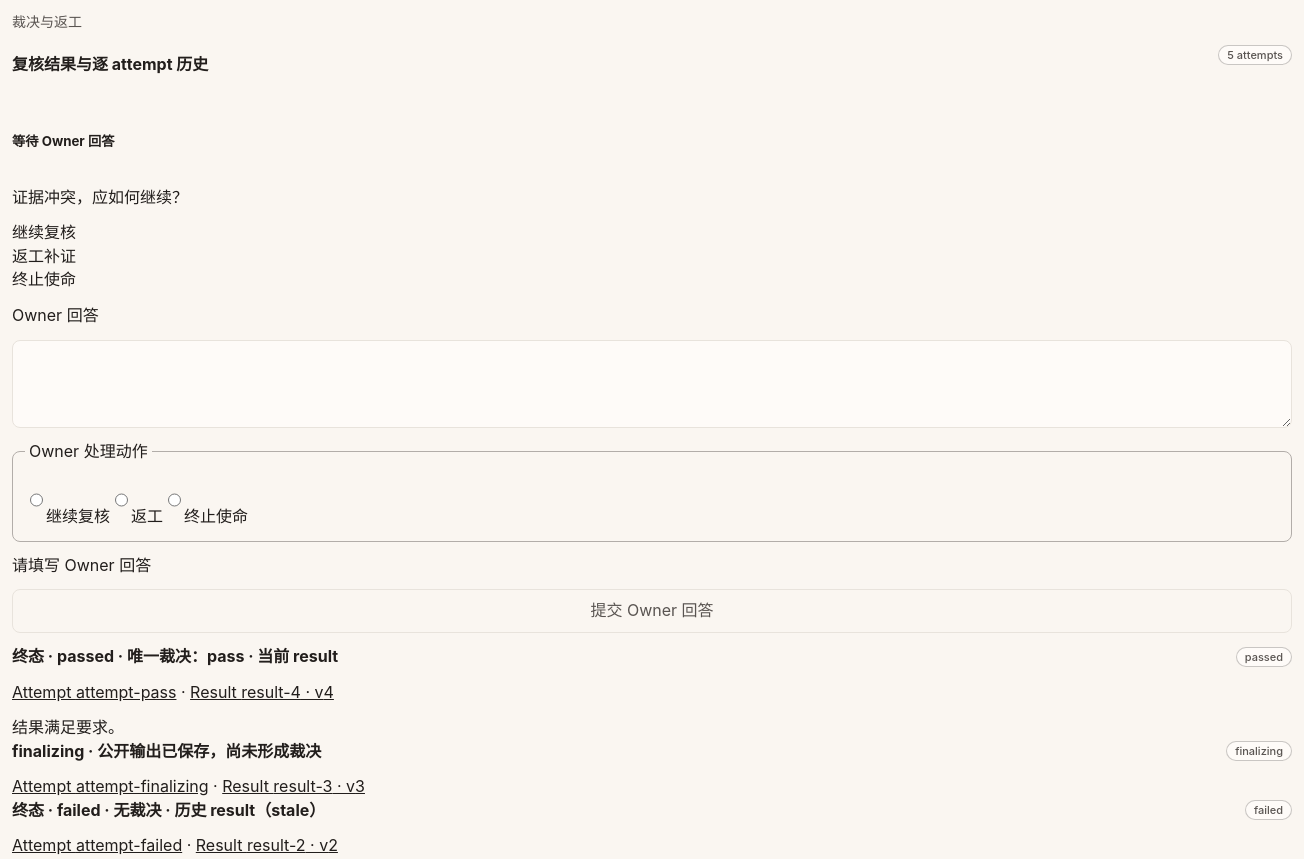
review outcomes and attempt history › submits rework with owner draft and announces its outcome
Type "保留这个回答草稿并执行所选动作。" into the text box labelled "Owner 回答".
click(652, 384); type("保留这个回答草稿并执行所选动作。")  # box left=12, top=340, right=1292, bottom=428
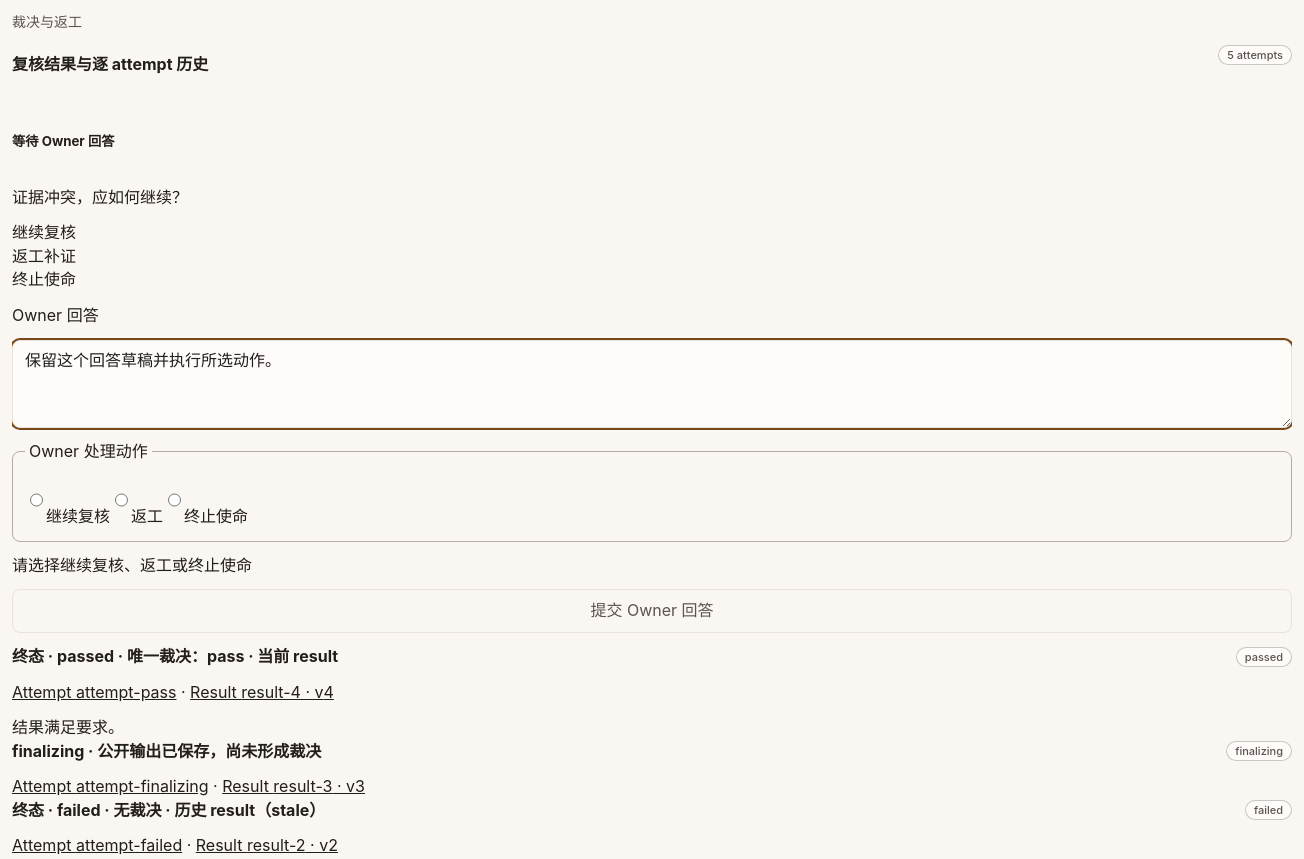
Click the radio button labelled "返工".
click(122, 500)  # box left=115, top=478, right=128, bottom=522
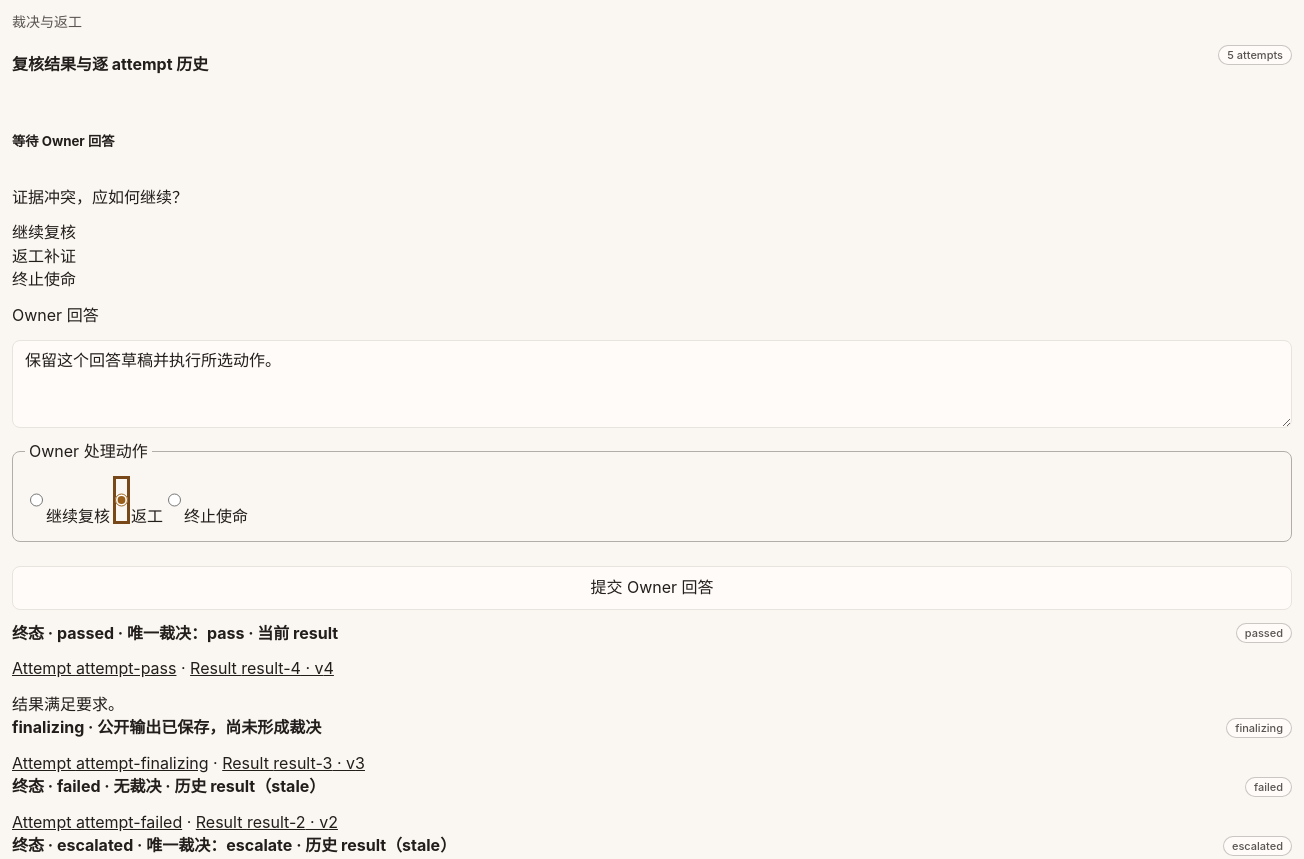
Click the button "提交 Owner 回答".
click(652, 588)  # box left=12, top=566, right=1292, bottom=610
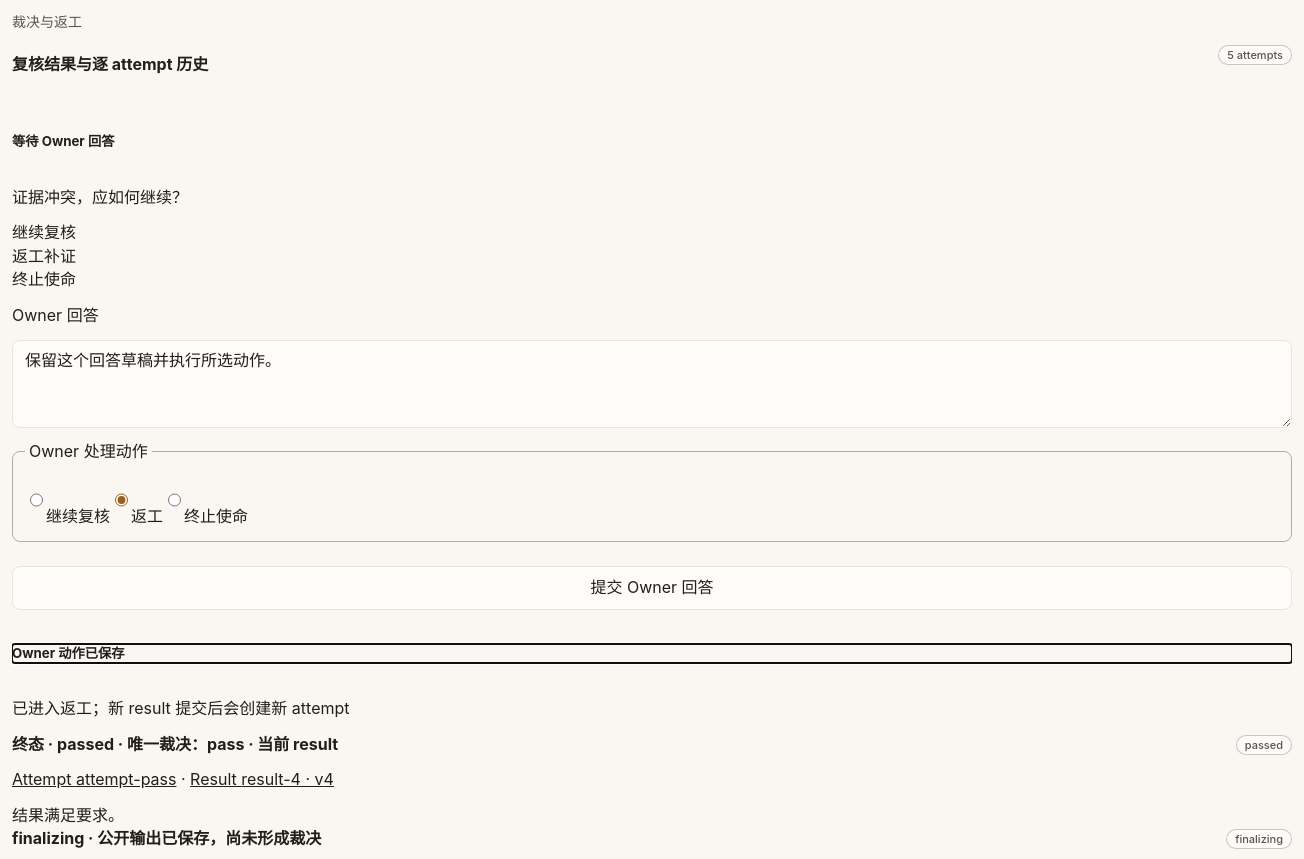
Expected: the message reads "已进入返工；新 result 提交后会创建新 attempt", left=12, top=698, right=350, bottom=718
